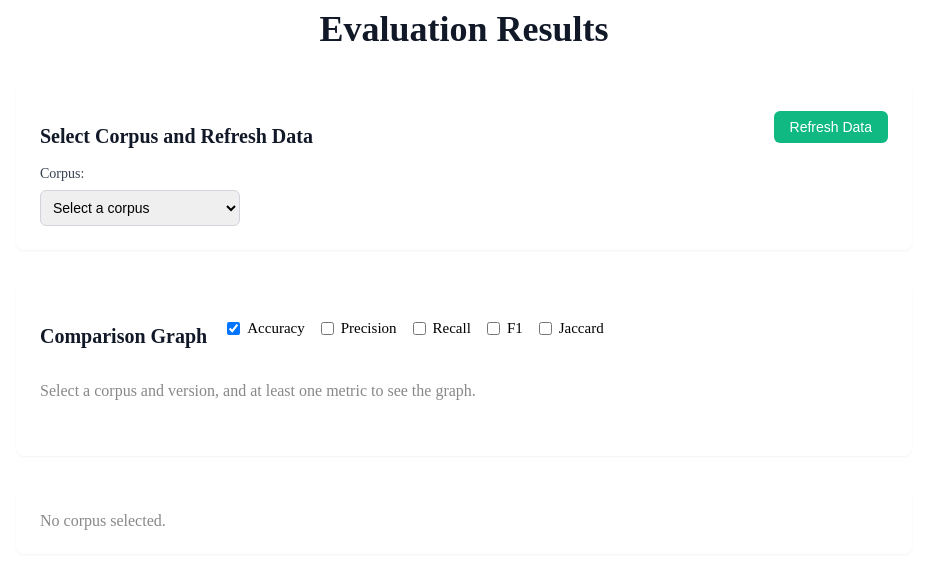
Scenario: EvaluationPage › shows no version selected message when corpus is selected but no version
Select corpus
Step 1. Select "gold_corpus" in the dropdown showing "Select a corpus" → [140, 208], box [40,190,240,226]
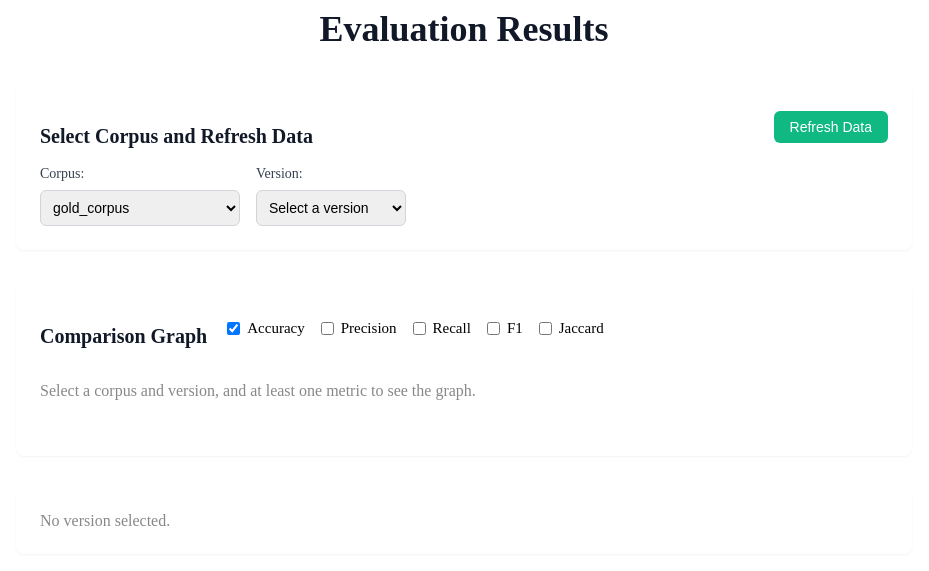
Expected: the text "No version selected." is shown, [16,488,912,554]
